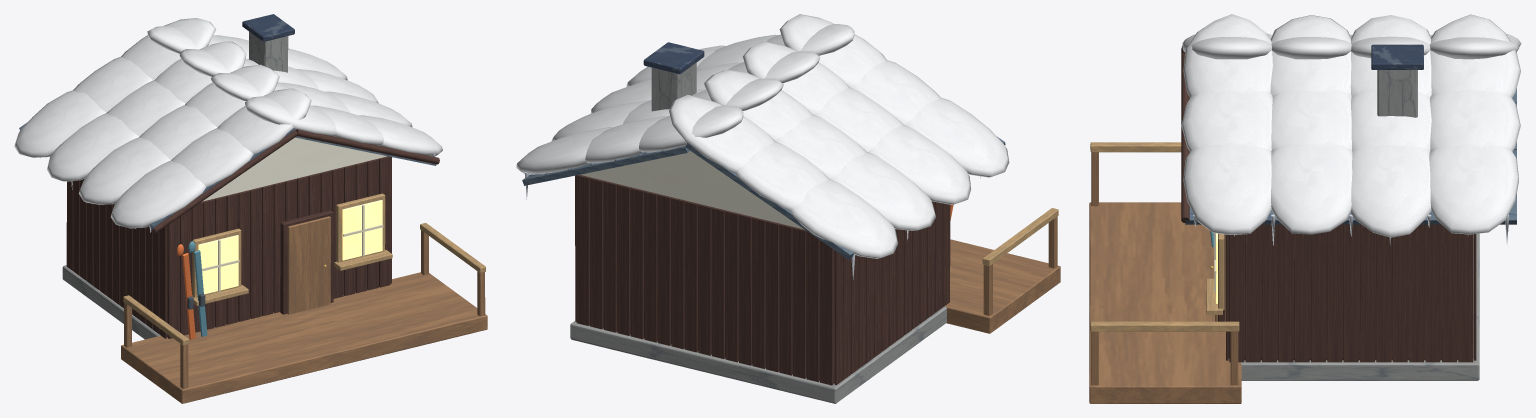
File: ski_hut.glb
The picture shows the model from 3 angles, left to right: view 1: azimuth 30°, elevation 25°; view 2: azimuth 150°, elevation 25°; view 3: azimuth 270°, elevation 25°; orthographic projection. The views are drawn at different scales.
Parts seen in each view (by area): view 1: ski_hut; view 2: ski_hut; view 3: ski_hut.
Boxes of the visible parts, x1,y1,x2,y2 form: ski_hut: [14, 14, 487, 403]; ski_hut: [516, 14, 1060, 403]; ski_hut: [1089, 14, 1521, 403].
Bounding box in the file's own units: 6.99 × 4.88 × 6.52.
Materials: 3 (3 with a texture image).
